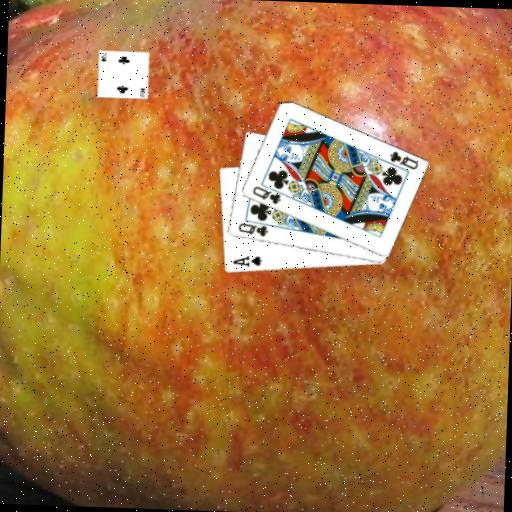AS: (229, 251, 263, 269)
QC: (248, 183, 282, 206), (386, 148, 419, 171), (234, 220, 269, 238)
